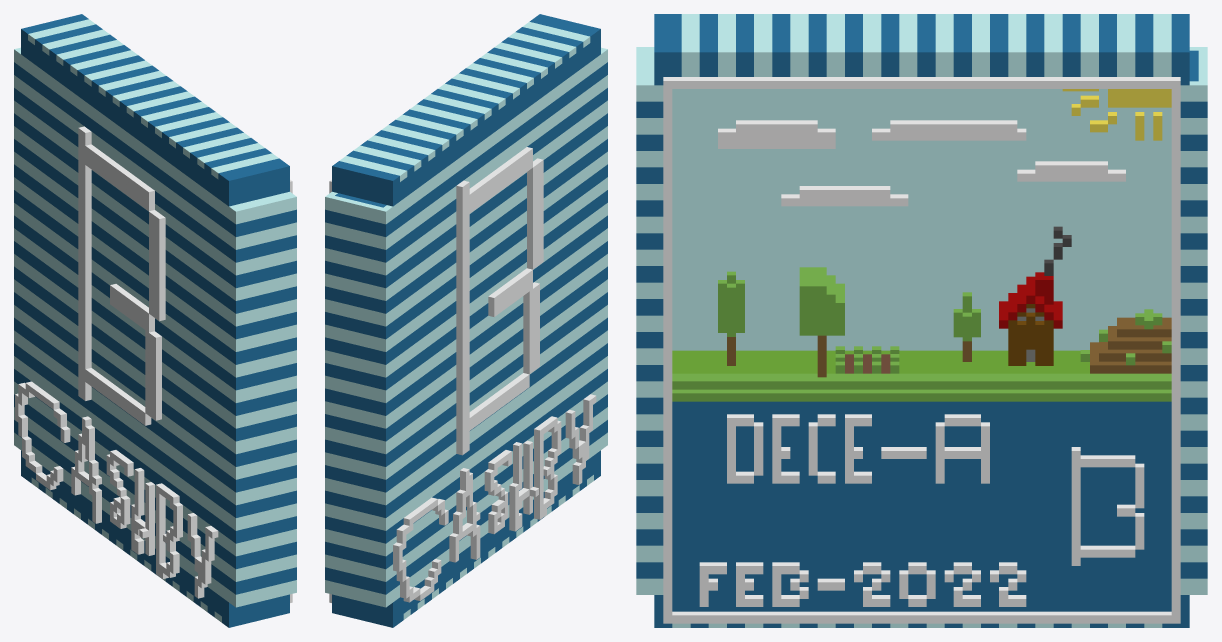
File: RegularCard.gltf
3 views of the same model, side by side, from view 1: azimuth 30°, elevation 25°; view 2: azimuth 150°, elevation 25°; view 3: azimuth 270°, elevation 25° (orthographic). The views are drawn at different scales.
Bounding box in the file's own units: 13 × 70 × 63.
1 material, 1 textured.
